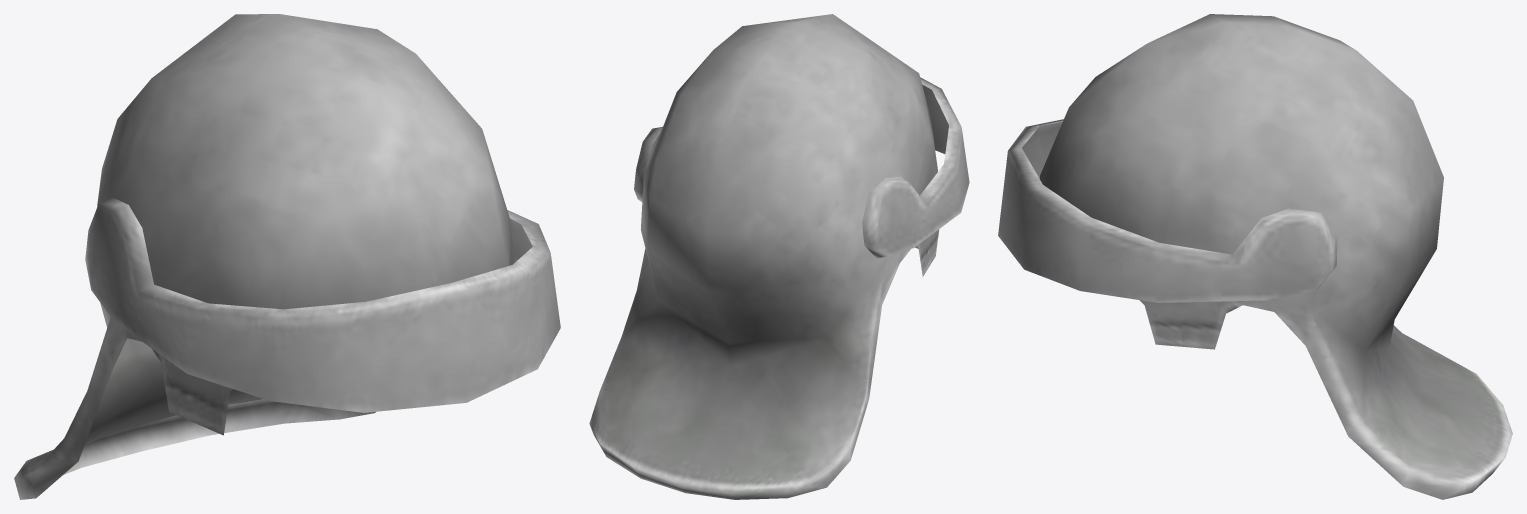
Rendered from helm-mediumarchers.glb.
The picture shows the model from 3 angles, left to right: view 1: azimuth 30°, elevation 25°; view 2: azimuth 150°, elevation 25°; view 3: azimuth 270°, elevation 25°; orthographic projection. The views are drawn at different scales.
Bounding box in the file's own units: 0.2425 × 0.3404 × 0.3689.
Materials: 1 (1 with a texture image).
